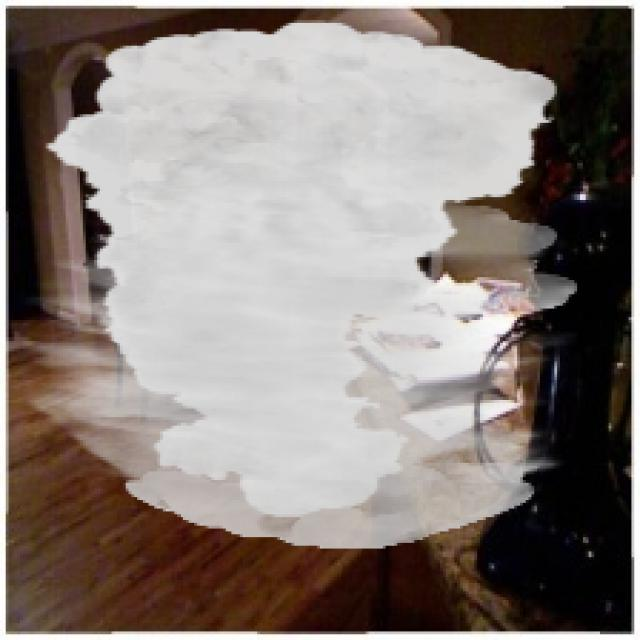Smoke: (22, 20, 578, 549)
